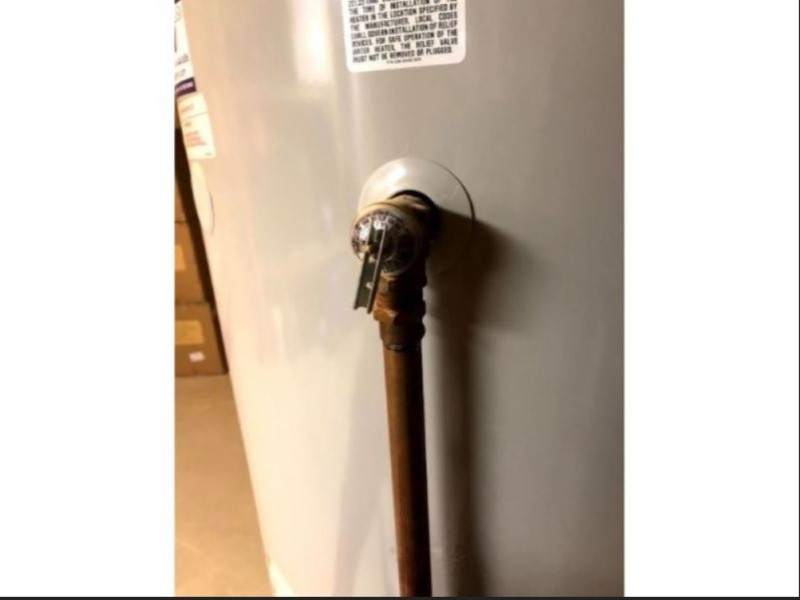Valve: (347, 190, 446, 355)
